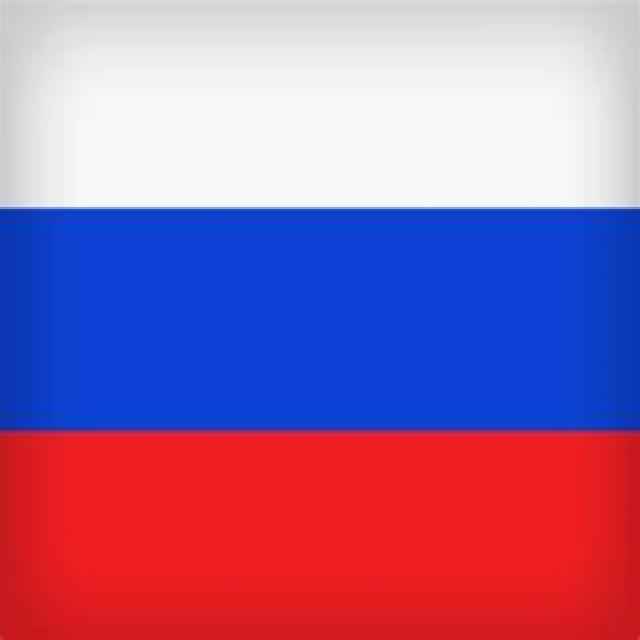russia: (8, 20, 636, 640)
